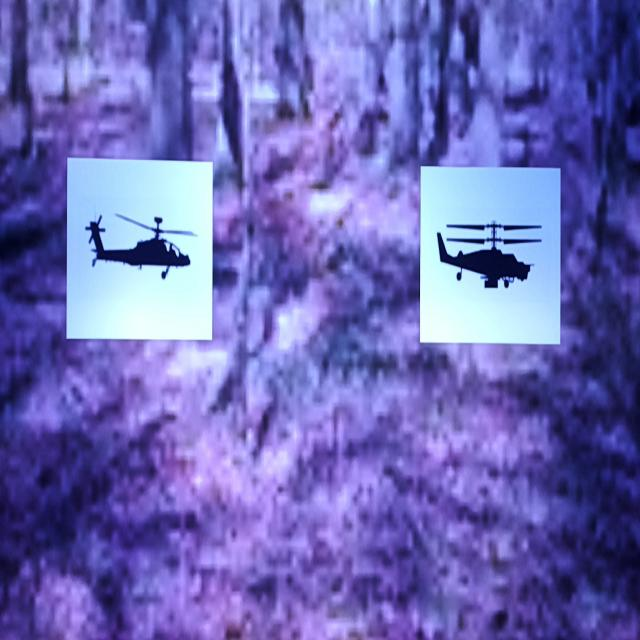Apache friendly: (86, 214, 195, 279)
Ka-52 Enemy: (438, 222, 541, 287)
